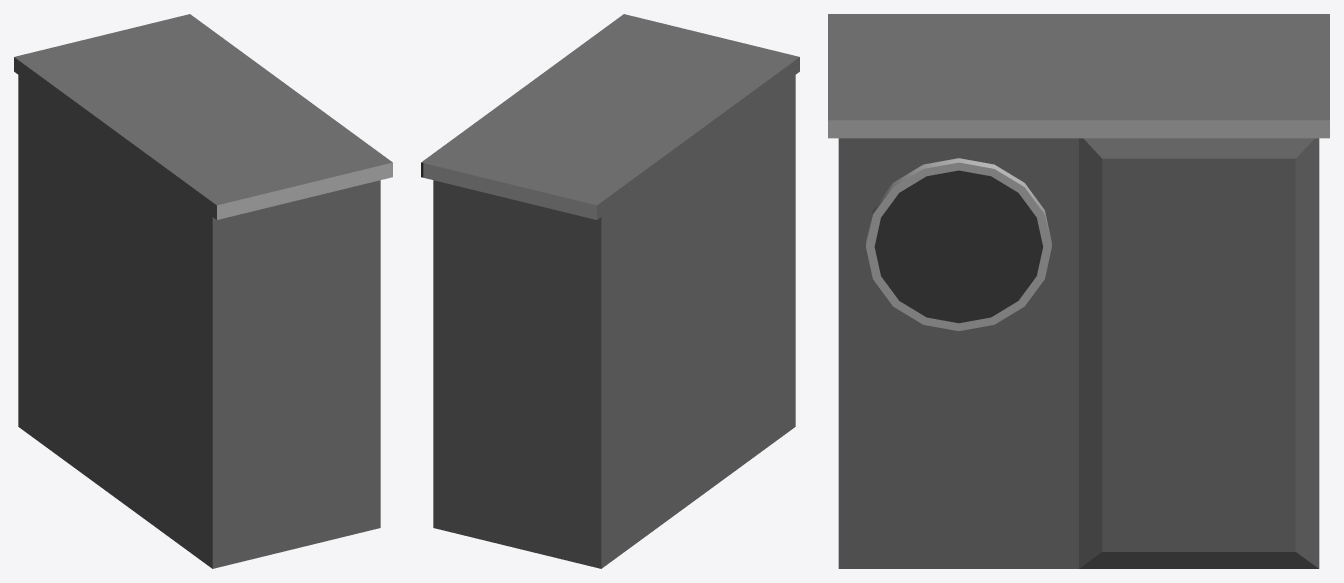
File: ACUnit.fbx
3 views of the same model, side by side, from view 1: azimuth 30°, elevation 25°; view 2: azimuth 150°, elevation 25°; view 3: azimuth 270°, elevation 25° (orthographic). The views are drawn at different scales.
Visible parts, largest first — view 1: Cube; view 2: Cube; view 3: Cube.
Boxes of the visible parts, x1,y1,x2,y2 form: Cube: (14, 14, 392, 568); Cube: (421, 14, 799, 568); Cube: (828, 14, 1329, 568).
Size of the model in its own units: 209 by 417 by 418.
